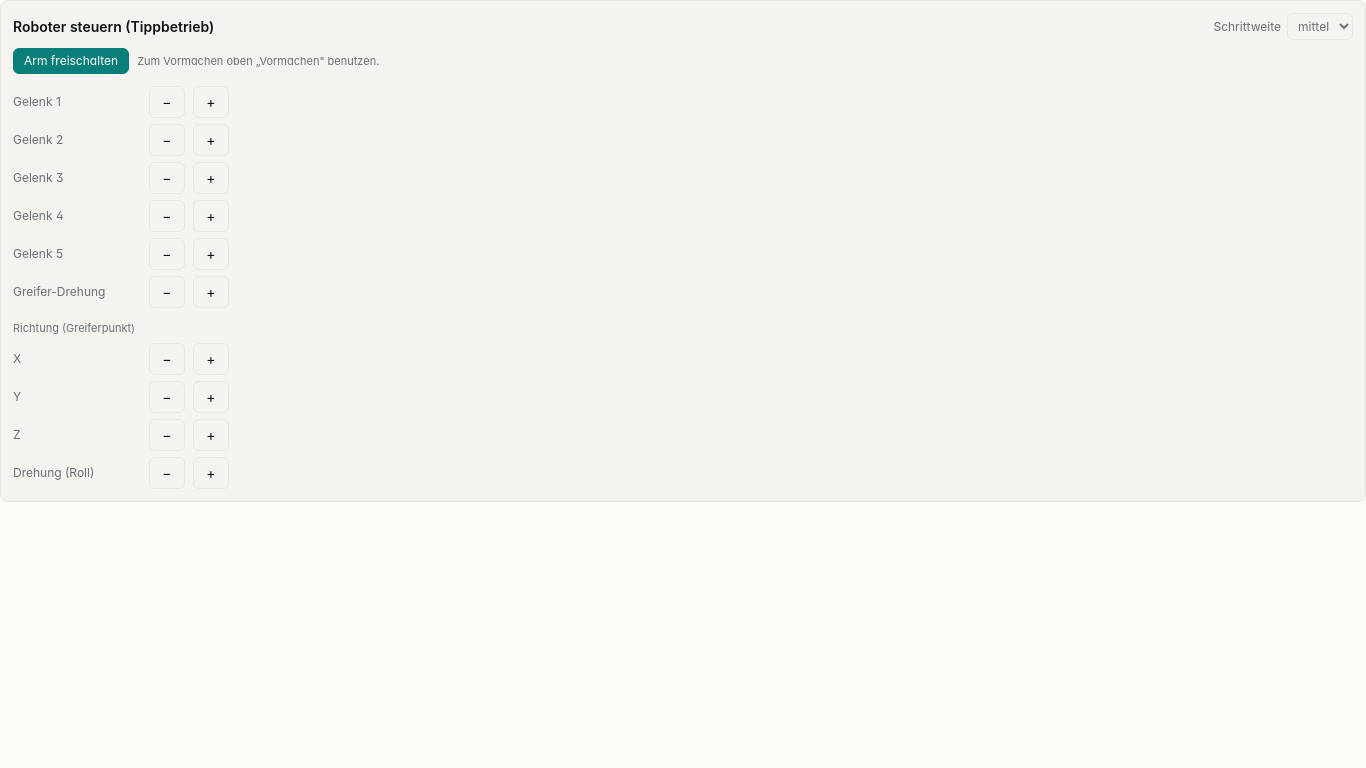
Test: JogPanel › festsetzen re-locks in place and WARNS before any glide home; freischalten never does
Click the button "Arm freischalten" at (71, 61), box [13,48,129,74]
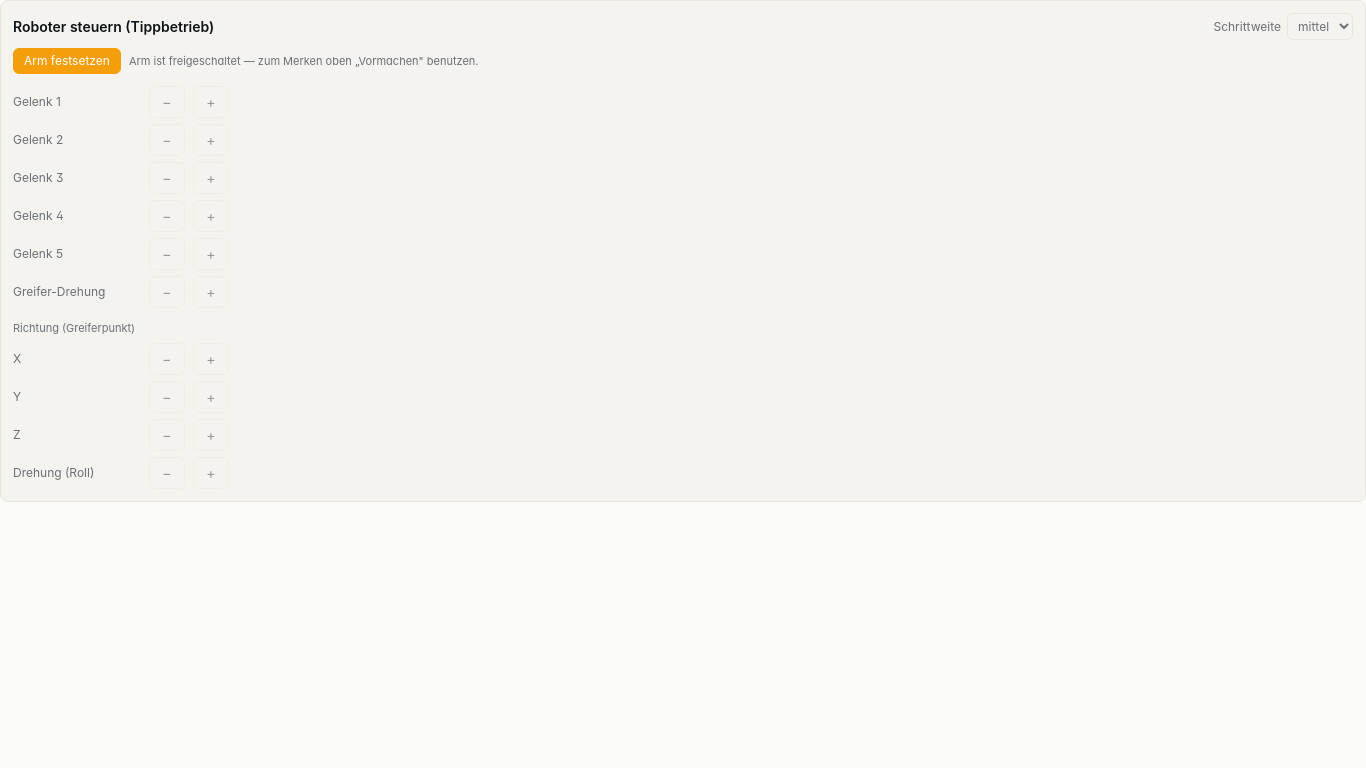
Click the button "Arm festsetzen" at (67, 61), box [13,48,121,74]
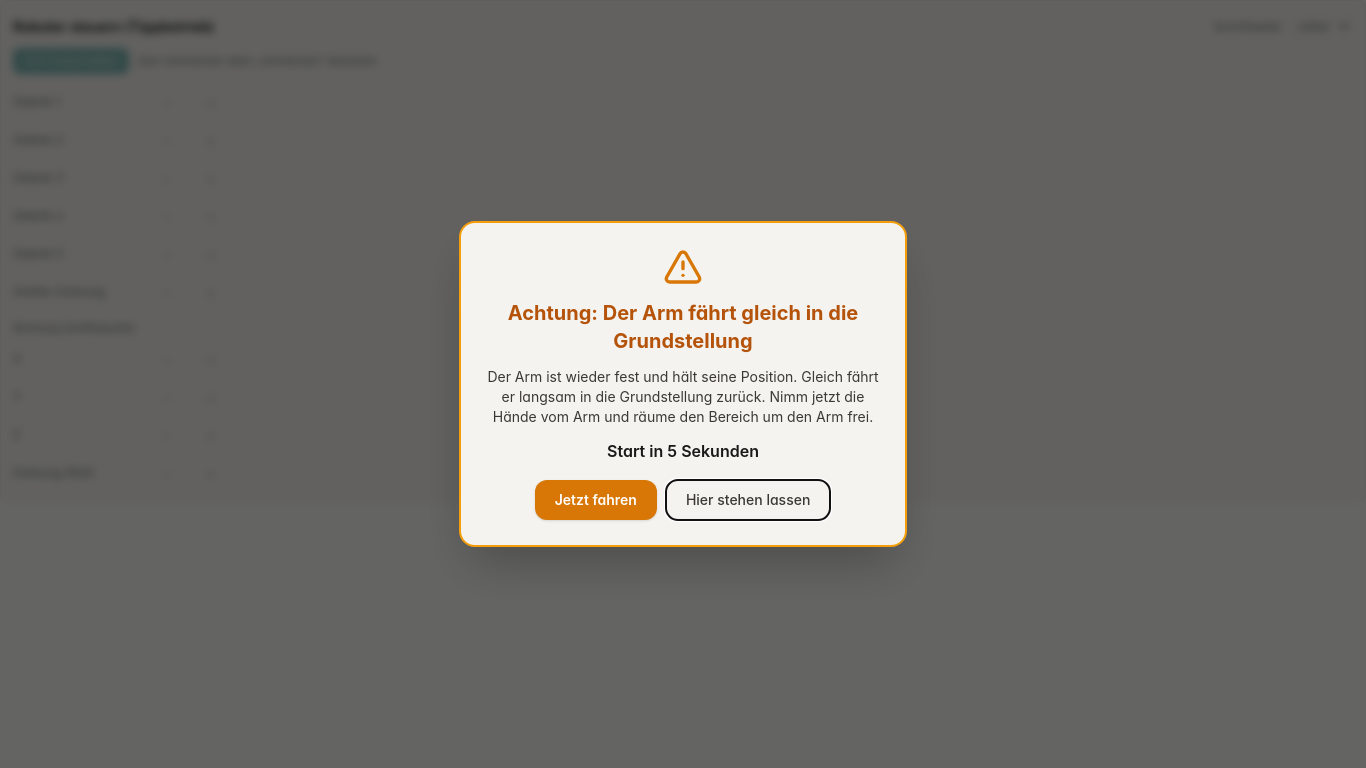
Now the dialog is shown
Now the heading "Achtung: Der Arm fährt gleich in die Grundstellung" is shown, box [485,299,881,355]
Now the button "Arm freischalten" is disabled, box [13,48,129,74]
Click the button "Hier stehen lassen" at (748, 500), box [665,479,831,521]
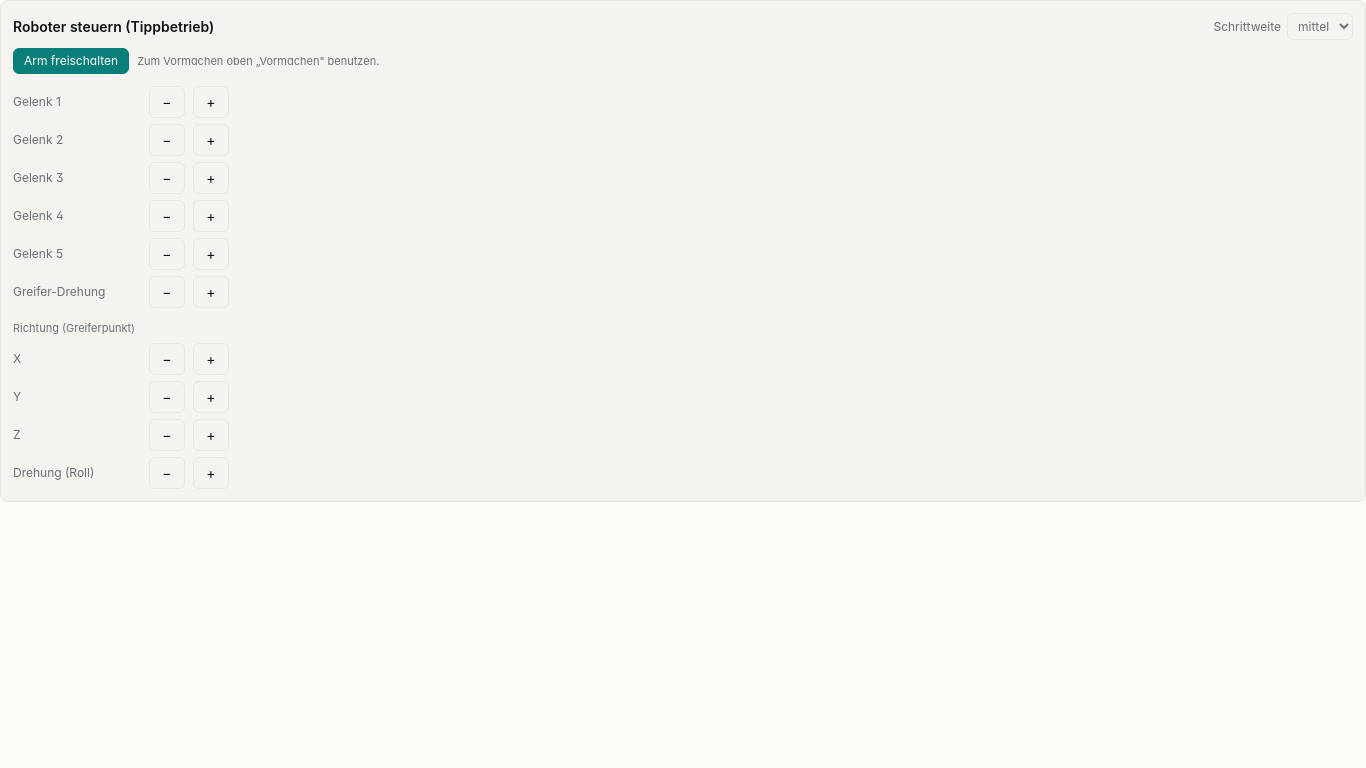
Now the dialog is gone
Now the button named "Gelenk 1 erhöhen" is enabled, box [193,86,229,118]
